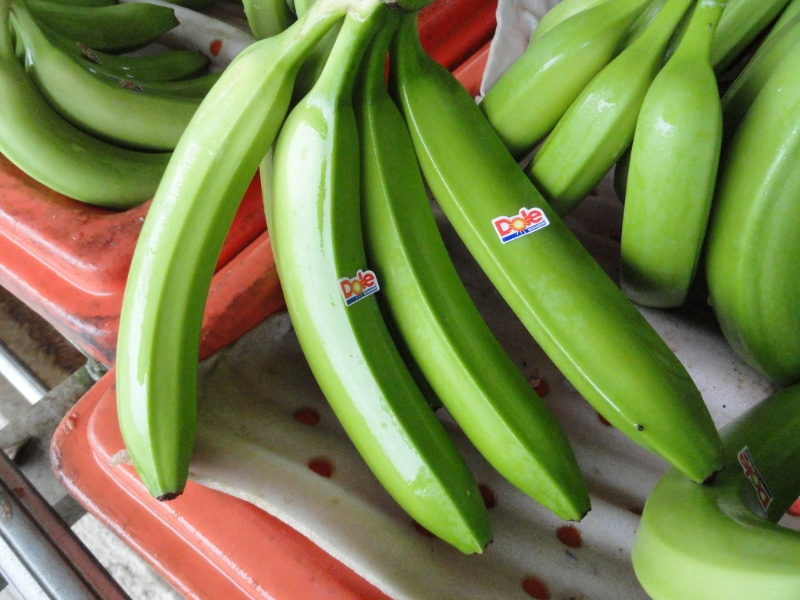banana: (369, 4, 735, 533), (103, 4, 272, 516)
